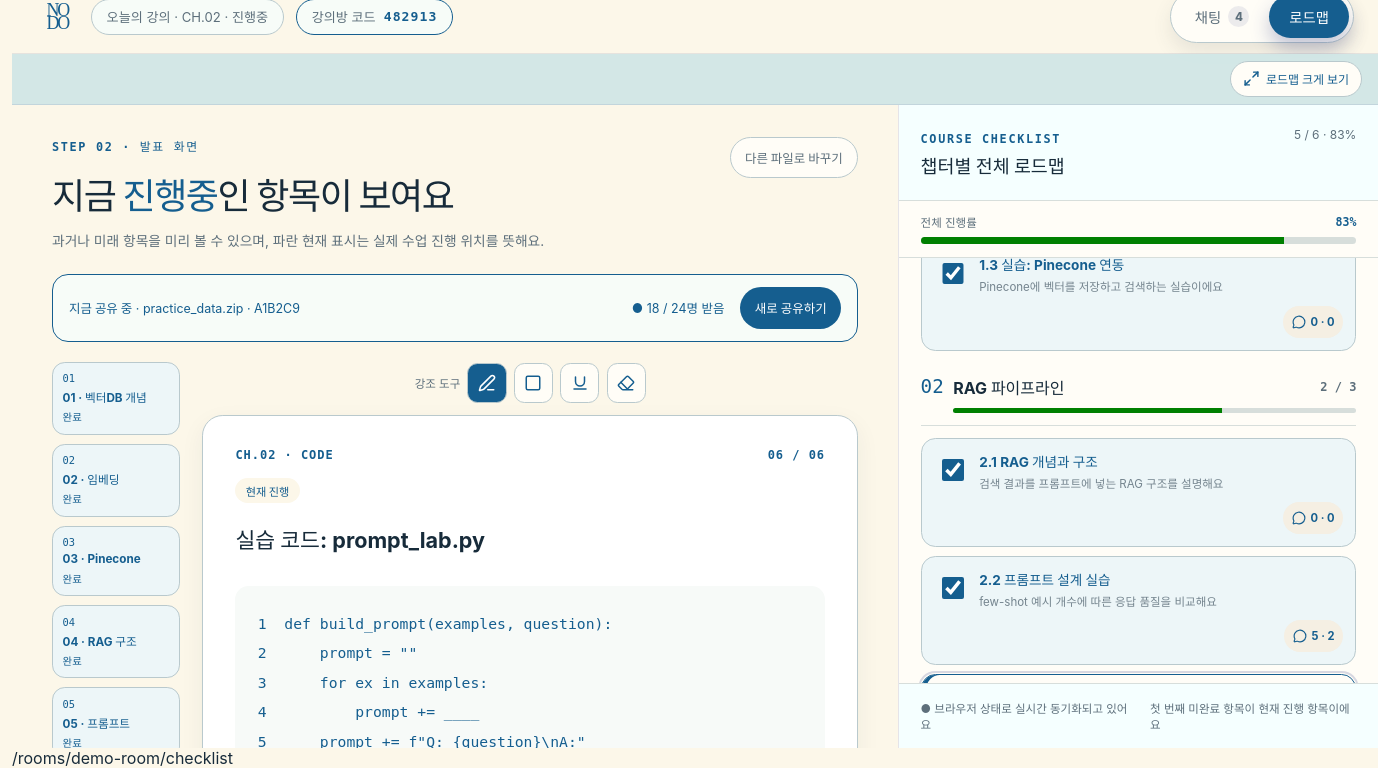
Test: NoDo 00-7 demo course flow › 챕터별 완료 개수와 전체 진행률을 순차 체크 결과로 계산한다
(page scrolled)
Check: the text "83%" is shown, box [1336, 214, 1356, 228]
Step 1. Click the checkbox named "RAG 개념과 구조 완료" → x=953, y=470, box [942, 459, 964, 481]
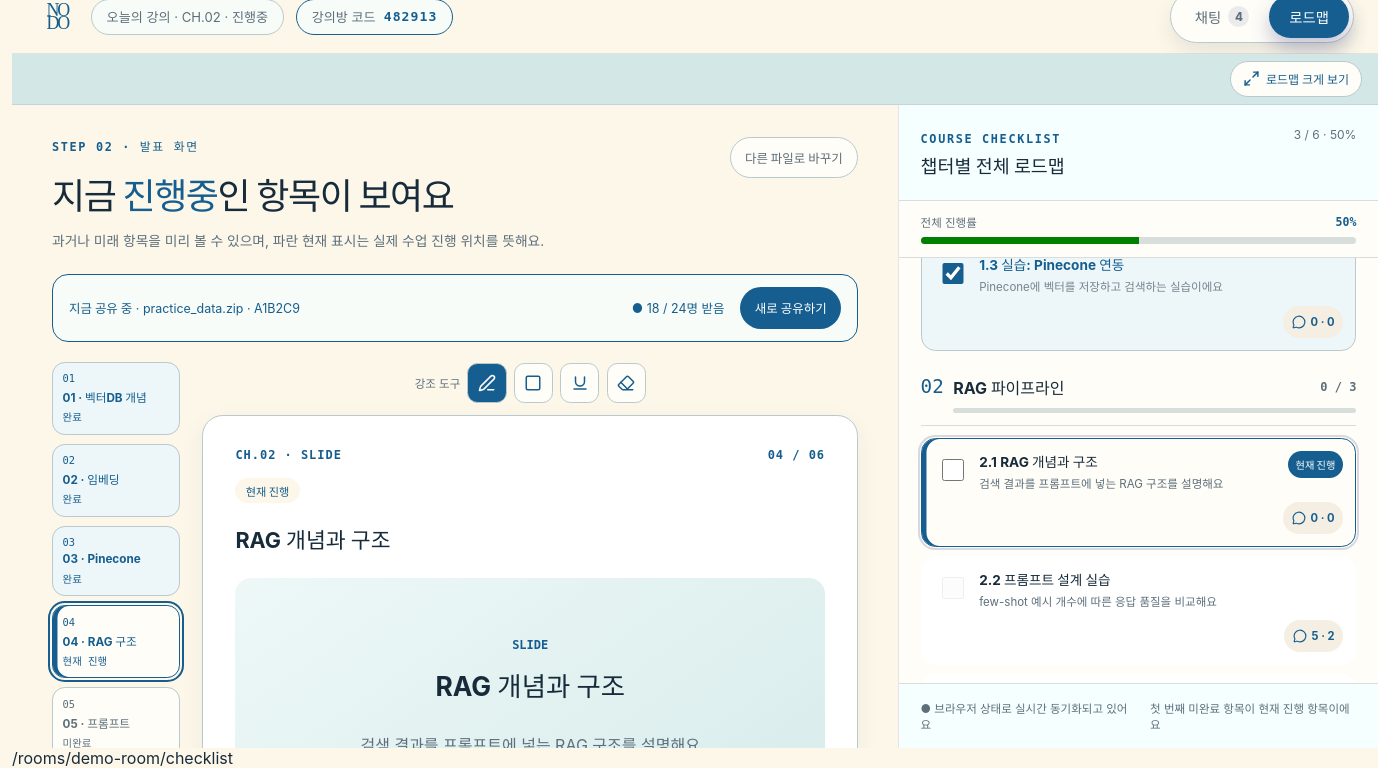
Check: the text "50%" is shown, box [1336, 214, 1356, 228]
